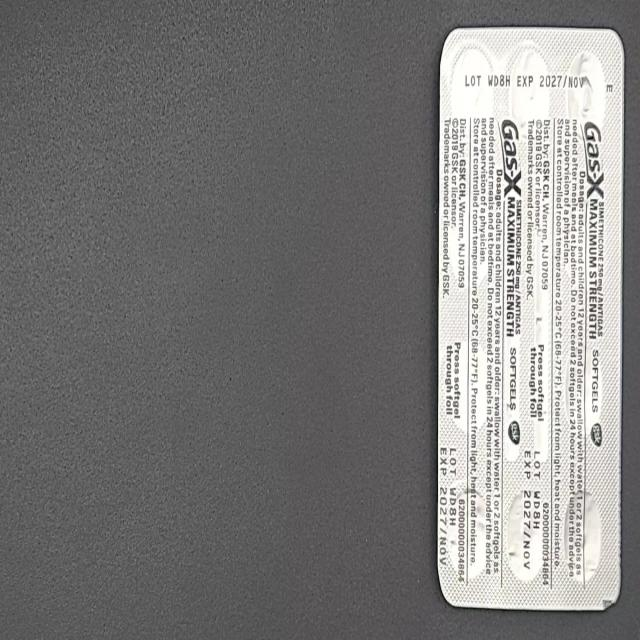no defect: (8, 10, 27, 48)
